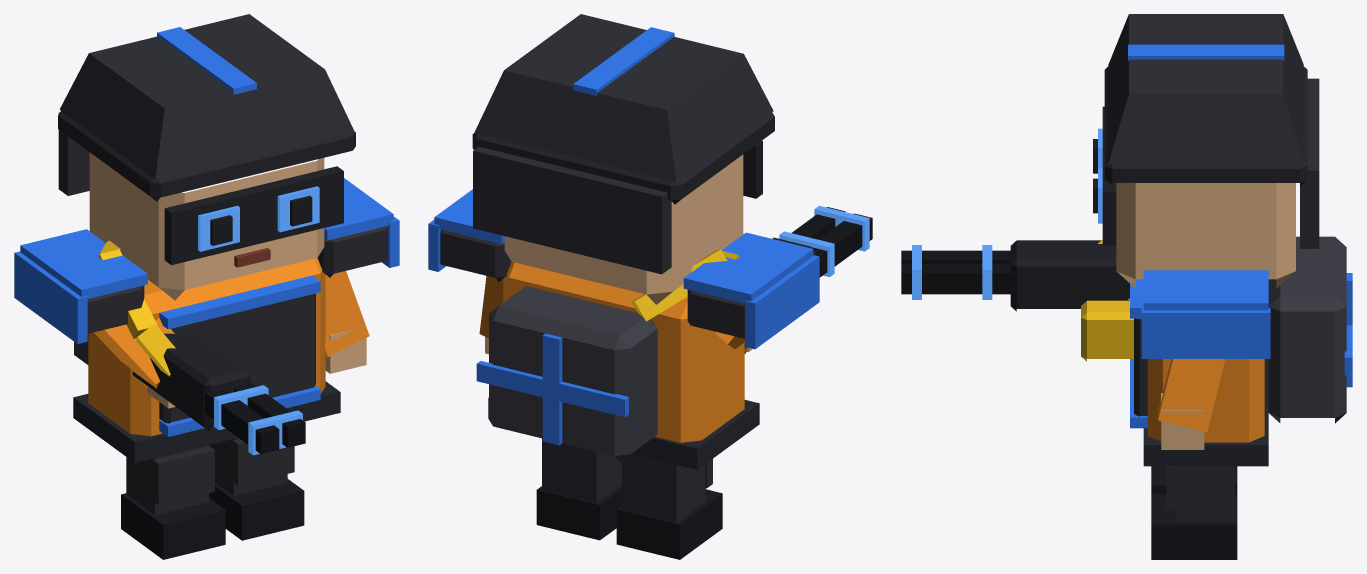
File: machine_gunner_super_rare.glb
3 views of the same model, side by side, from view 1: azimuth 30°, elevation 25°; view 2: azimuth 150°, elevation 25°; view 3: azimuth 270°, elevation 25° (orthographic).
Visible parts, largest first — view 1: machine_gunner_super_rare_mesh; view 2: machine_gunner_super_rare_mesh; view 3: machine_gunner_super_rare_mesh.
Part boxes in pixels (box(x1,y1,x2,y2)): machine_gunner_super_rare_mesh: box(14, 14, 399, 559); machine_gunner_super_rare_mesh: box(428, 14, 872, 559); machine_gunner_super_rare_mesh: box(901, 14, 1352, 559).
Size of the model in its own units: 0.941 by 1.3 by 1.12.
Materials: 2 (2 with a texture image).
